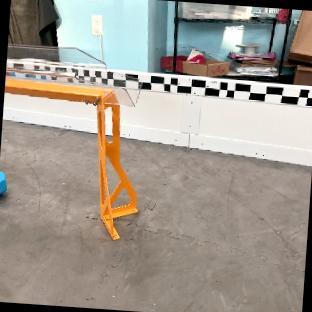V5_BLUE: (0, 171, 7, 195)
